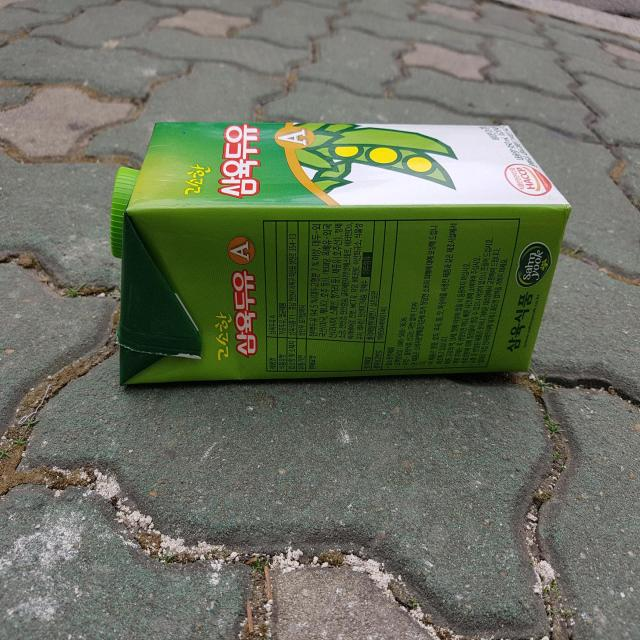paperpack: (110, 121, 572, 384)
